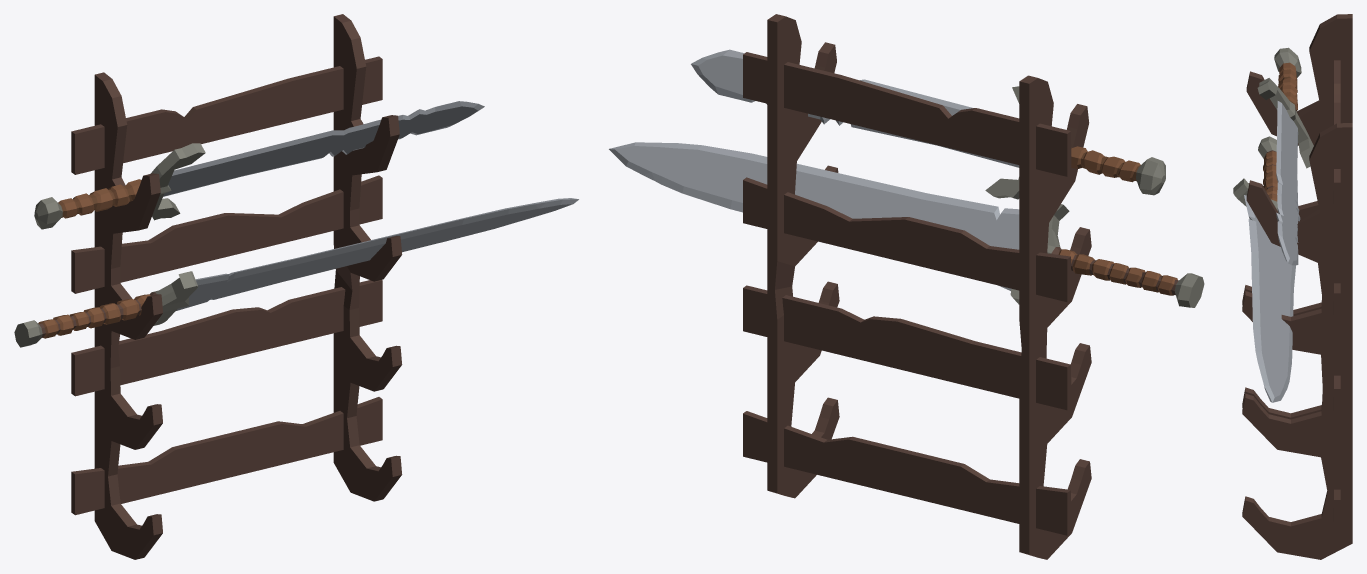
The model's file is sword-wallmount.glb.
3 views of the same model, side by side, from view 1: azimuth 30°, elevation 25°; view 2: azimuth 150°, elevation 25°; view 3: azimuth 270°, elevation 25° (orthographic). The views are drawn at different scales.
Visible parts, largest first — view 1: DarkWood, Steel, LightSteel, DarkSteel, LightWood; view 2: DarkWood, Steel, LightSteel, LightWood, DarkSteel; view 3: DarkWood, Steel, LightSteel, DarkSteel, LightWood.
Boxes of the visible parts, left/top/right/bottom form: DarkWood: left=38, top=14, right=402, bottom=559; Steel: left=163, top=106, right=572, bottom=310; LightSteel: left=163, top=101, right=578, bottom=299; DarkSteel: left=14, top=143, right=205, bottom=347; LightWood: left=38, top=179, right=150, bottom=338; DarkWood: left=743, top=14, right=1178, bottom=559; Steel: left=615, top=55, right=1019, bottom=249; LightSteel: left=609, top=49, right=1019, bottom=290; LightWood: left=1058, top=146, right=1177, bottom=295; DarkSteel: left=985, top=86, right=1204, bottom=307; DarkWood: left=1242, top=14, right=1352, bottom=559; Steel: left=1254, top=103, right=1299, bottom=397; LightSteel: left=1244, top=101, right=1300, bottom=402; DarkSteel: left=1233, top=47, right=1313, bottom=210; LightWood: left=1263, top=62, right=1297, bottom=201.
Size of the model in its own units: 1.07 by 0.8471 by 0.2117.
